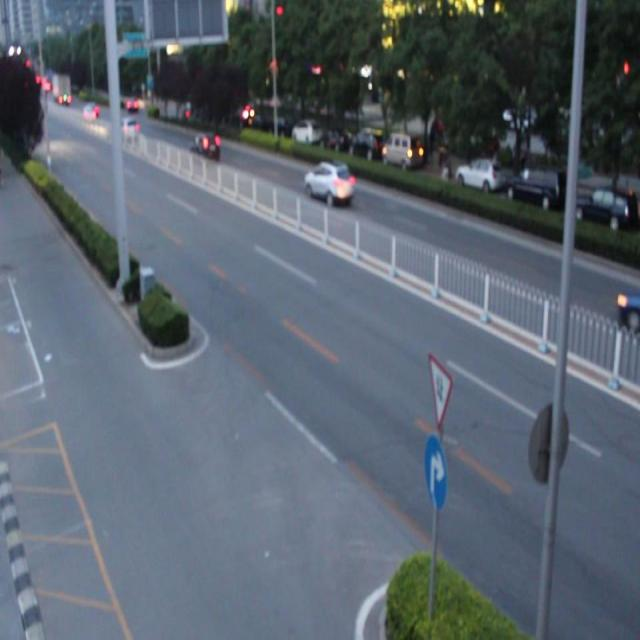car: (302, 158, 354, 204), (613, 280, 640, 340)
